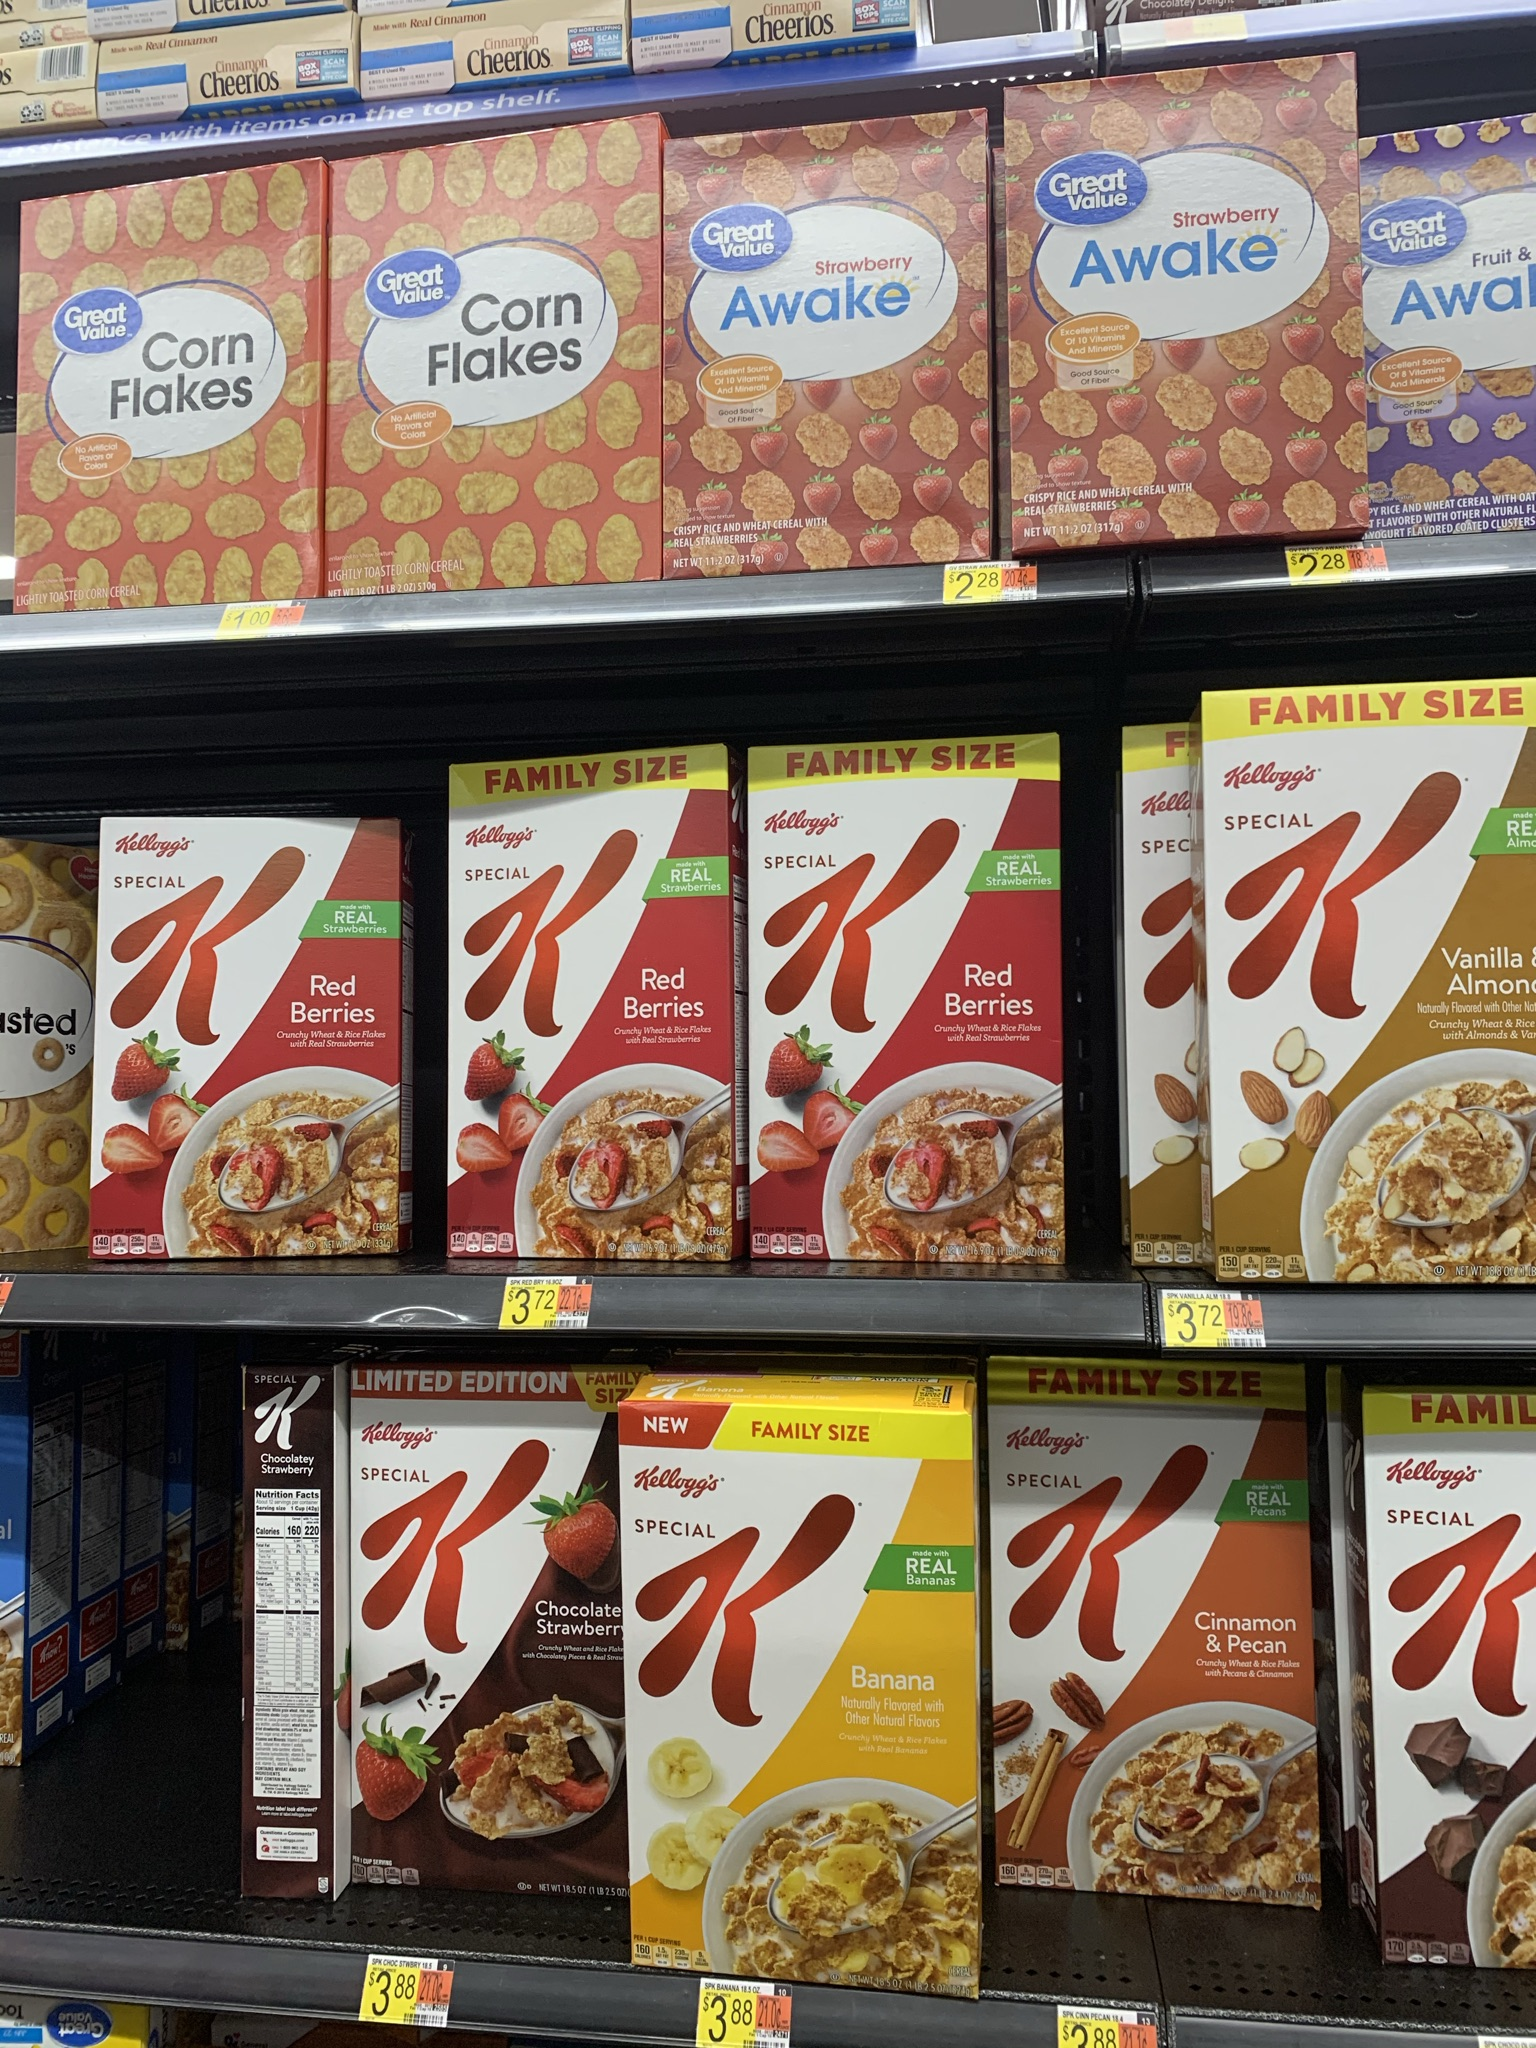box: (1205, 705, 1530, 1284), (650, 1419, 976, 1980), (1000, 1413, 1320, 1900), (755, 760, 1057, 1261), (1021, 97, 1359, 513), (357, 1392, 621, 1887), (463, 774, 720, 1256), (357, 181, 655, 584), (697, 156, 992, 552), (123, 834, 387, 1253), (40, 205, 319, 598)
